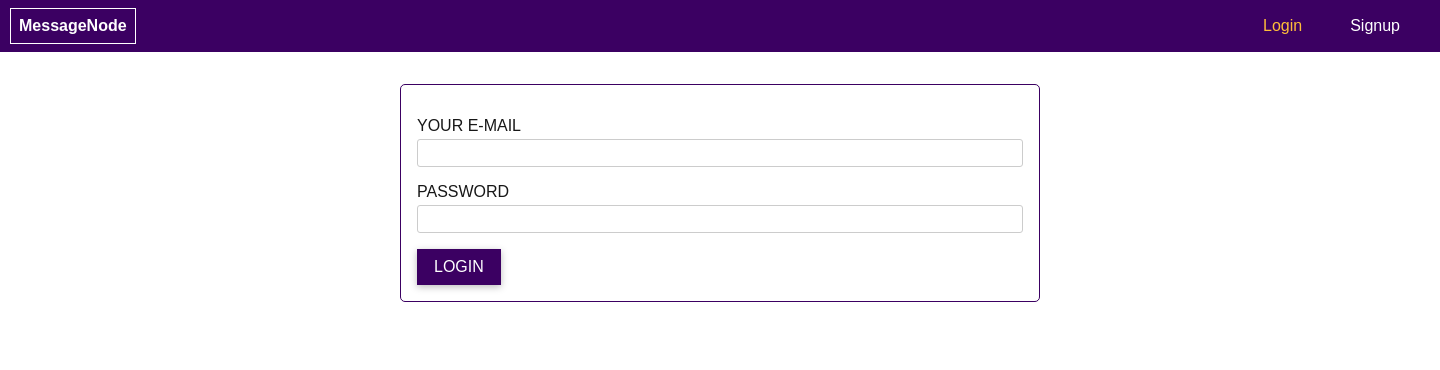
Test: Chưa đăng nhập chuyển về Login; validate trước khi gọi API
This screenshot has width=1440, height=370.
Step 1. Click the button "LOGIN" → click(459, 267), box [417, 249, 501, 285]
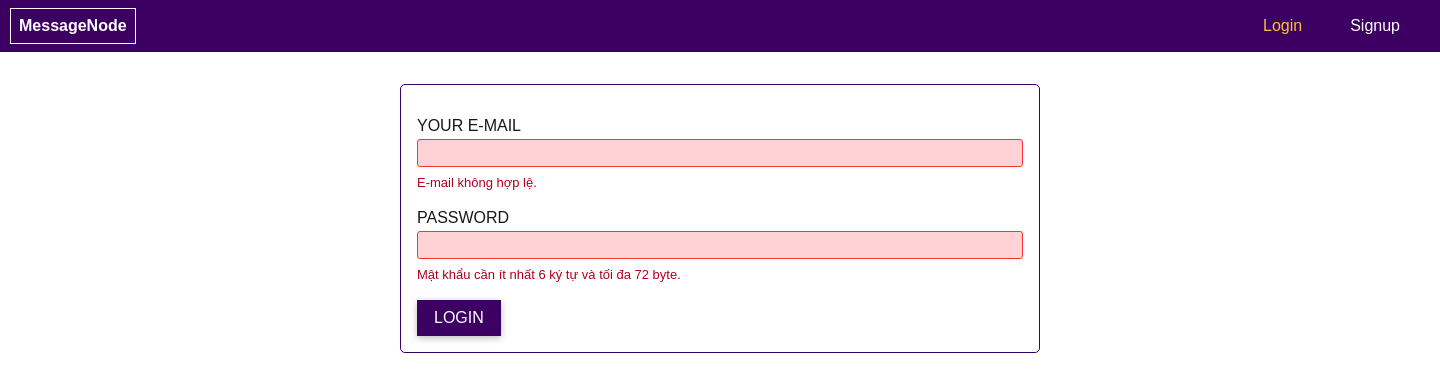
Expected: the text "E-mail không hợp lệ." is shown, [417, 175, 537, 190]
